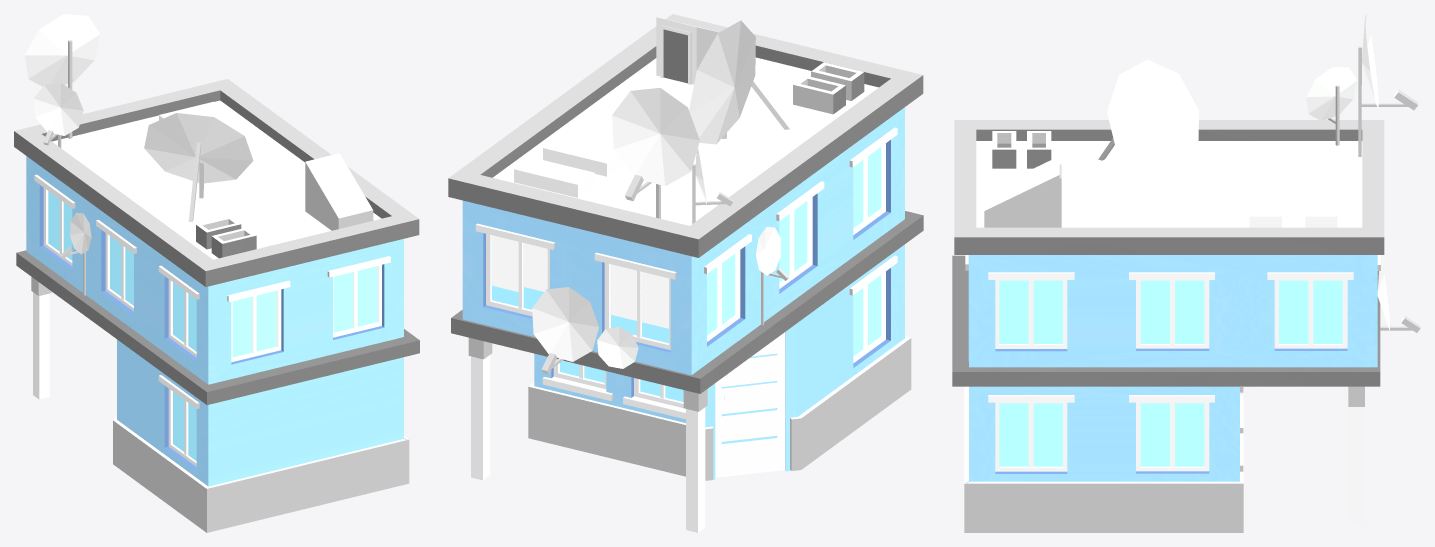
Rendered from purpose.glb.
3 renders of one model, left to right at view 1: azimuth 30°, elevation 25°; view 2: azimuth 150°, elevation 25°; view 3: azimuth 270°, elevation 25°, orthographic. The views are drawn at different scales.
Visible parts, largest first — view 1: purpose(Clone); view 2: purpose(Clone); view 3: purpose(Clone).
Part boxes in pixels (left/top/right/bottom): purpose(Clone): left=14, top=14, right=419, bottom=532; purpose(Clone): left=448, top=14, right=923, bottom=532; purpose(Clone): left=952, top=14, right=1420, bottom=532.
Size of the model in its own units: 5.25 by 8.38 by 8.32.
Materials: 1 (1 with a texture image).
